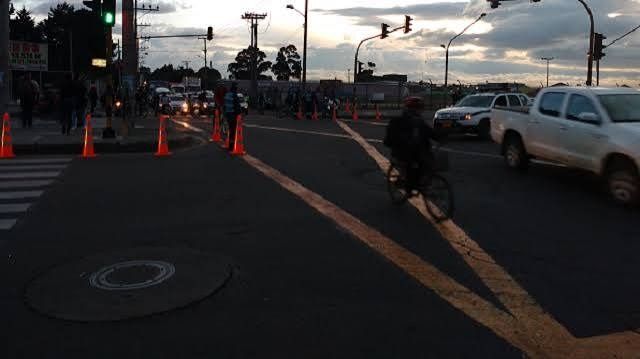car: (485, 90, 640, 204), (474, 92, 608, 184), (431, 92, 529, 138), (426, 96, 507, 133)
